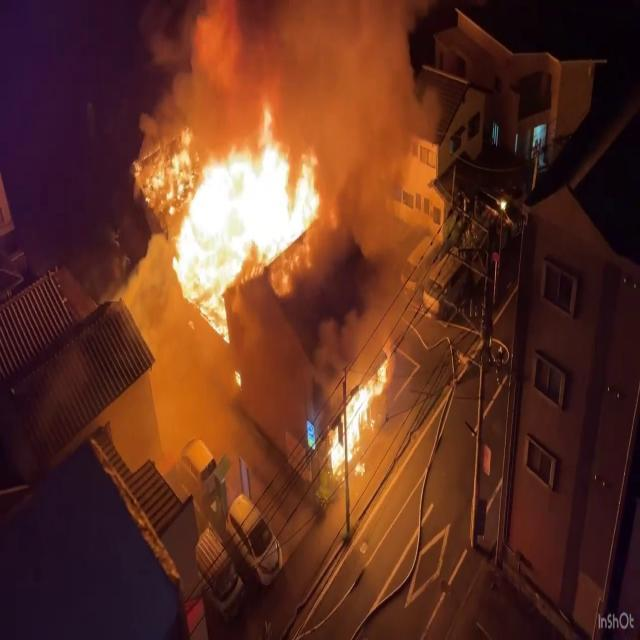Fire: (152, 104, 328, 332), (324, 352, 390, 477)
Smoke: (154, 0, 442, 164)
